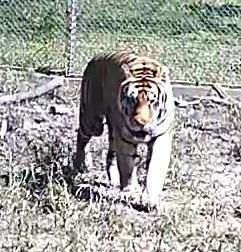tiger: (75, 50, 174, 208)
